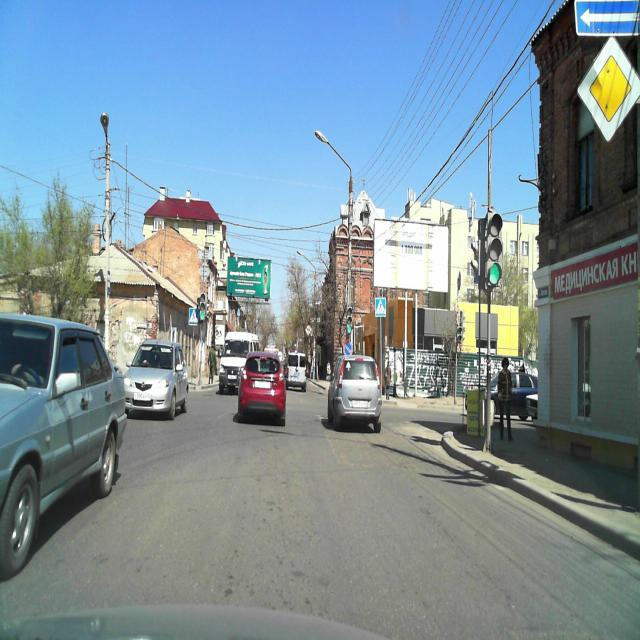road sign: (578, 37, 640, 144), (574, 0, 640, 38), (375, 297, 386, 318), (188, 307, 199, 325)
